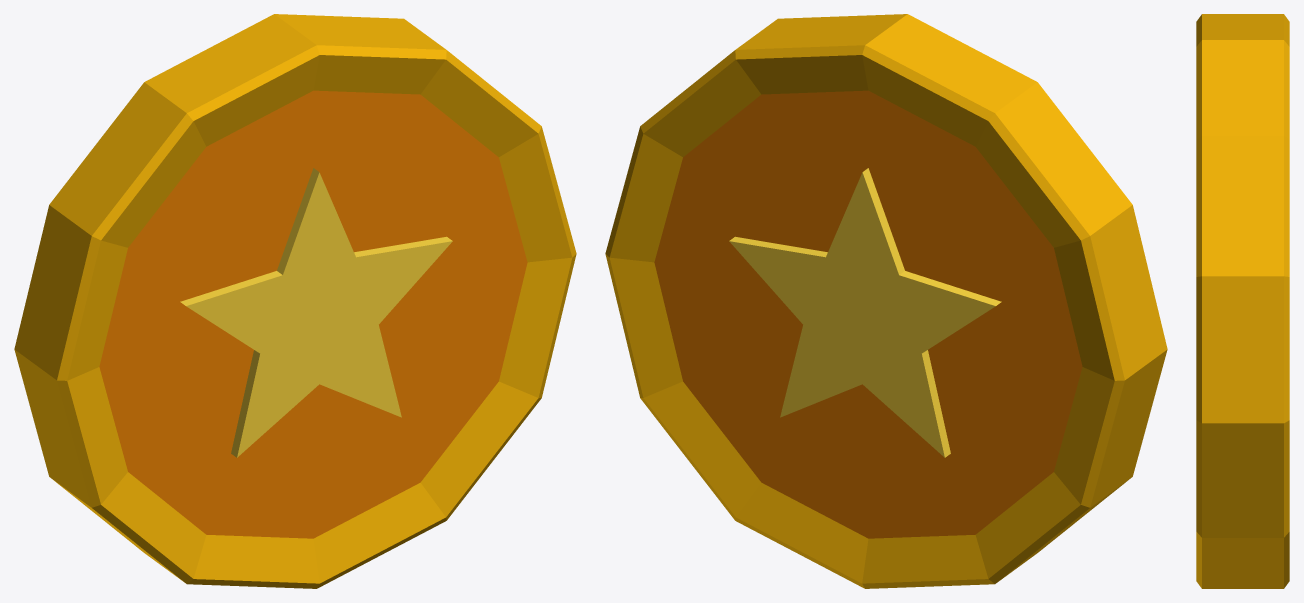
Rendered from altin.glb.
The picture shows the model from 3 angles, left to right: view 1: azimuth 30°, elevation 25°; view 2: azimuth 150°, elevation 25°; view 3: azimuth 270°, elevation 25°; orthographic projection. The views are drawn at different scales.
Visible parts, largest first — view 1: altin; view 2: altin; view 3: altin.
Boxes of the visible parts, x1=… form: altin: x1=14, y1=14, x2=576, y2=588; altin: x1=605, y1=14, x2=1167, y2=588; altin: x1=1196, y1=14, x2=1289, y2=588.
Size of the model in its own units: 0.9901 by 0.9901 by 0.1605.
